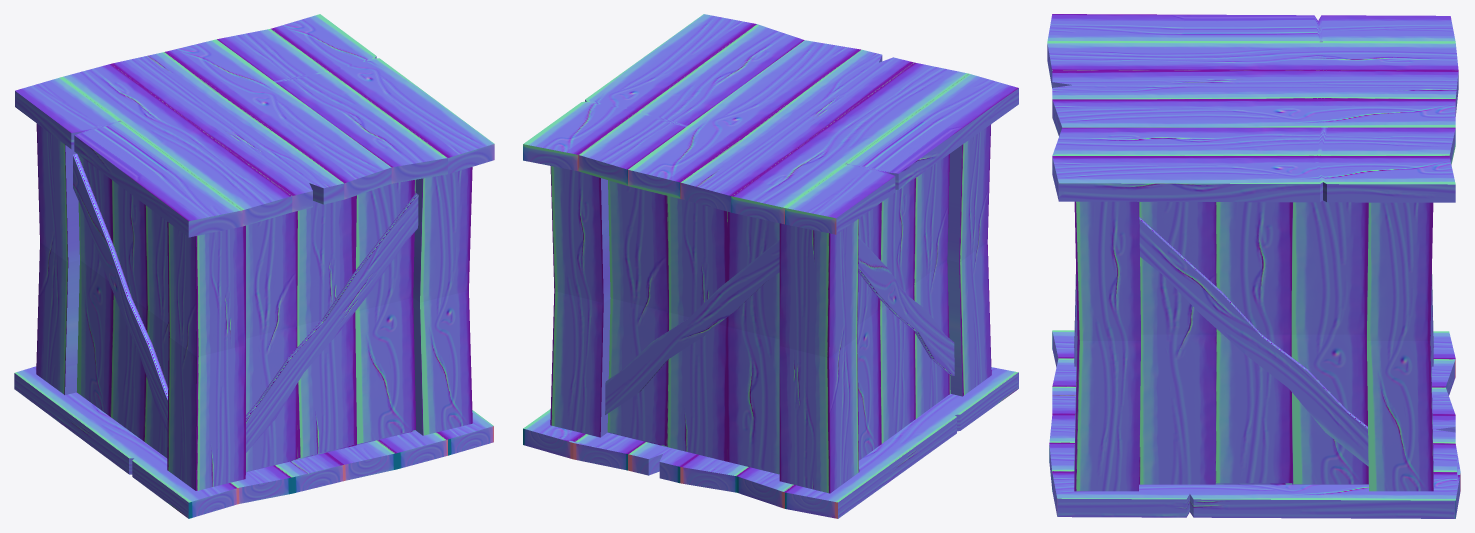
Rendered from SM_Crate_A.fbx.
3 views of the same model, side by side, from view 1: azimuth 30°, elevation 25°; view 2: azimuth 150°, elevation 25°; view 3: azimuth 270°, elevation 25° (orthographic). The views are drawn at different scales.
Visible parts, largest first — view 1: SM_Crate_A; view 2: SM_Crate_A; view 3: SM_Crate_A.
Part boxes in pixels (left/top/right/bottom): SM_Crate_A: left=14, top=14, right=494, bottom=518; SM_Crate_A: left=523, top=14, right=1018, bottom=518; SM_Crate_A: left=1047, top=14, right=1460, bottom=518.
Bounding box in the file's own units: 78.65 × 71.93 × 80.57.
